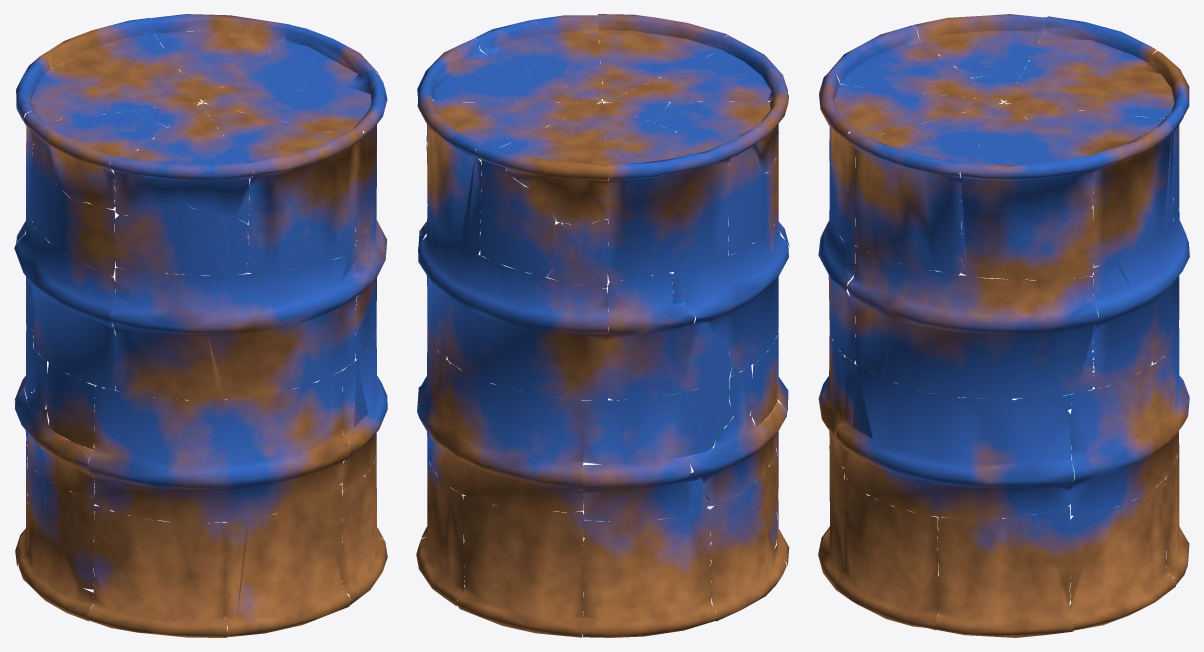
Rendered from barril.glb.
3 renders of one model, left to right at view 1: azimuth 30°, elevation 25°; view 2: azimuth 150°, elevation 25°; view 3: azimuth 270°, elevation 25°, orthographic.
Visible parts, largest first — view 1: Prop_barril; view 2: Prop_barril; view 3: Prop_barril.
Boxes of the visible parts, bbox=[...] form: Prop_barril: bbox=[14, 14, 387, 637]; Prop_barril: bbox=[416, 14, 789, 637]; Prop_barril: bbox=[818, 14, 1189, 637].
Size of the model in its own units: 0.6272 by 0.88 by 0.6265.
Materials: 1 (1 with a texture image).
